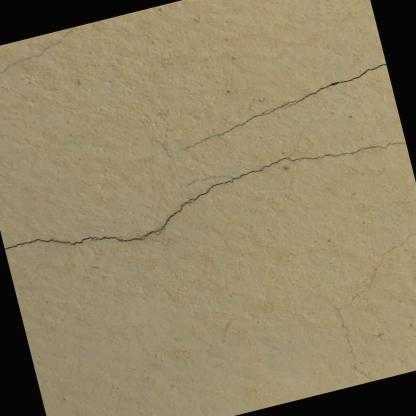crack: (285, 63, 387, 107), (188, 109, 271, 147), (187, 170, 263, 202), (261, 147, 371, 169), (4, 237, 145, 251), (142, 201, 193, 236), (263, 100, 298, 115)
